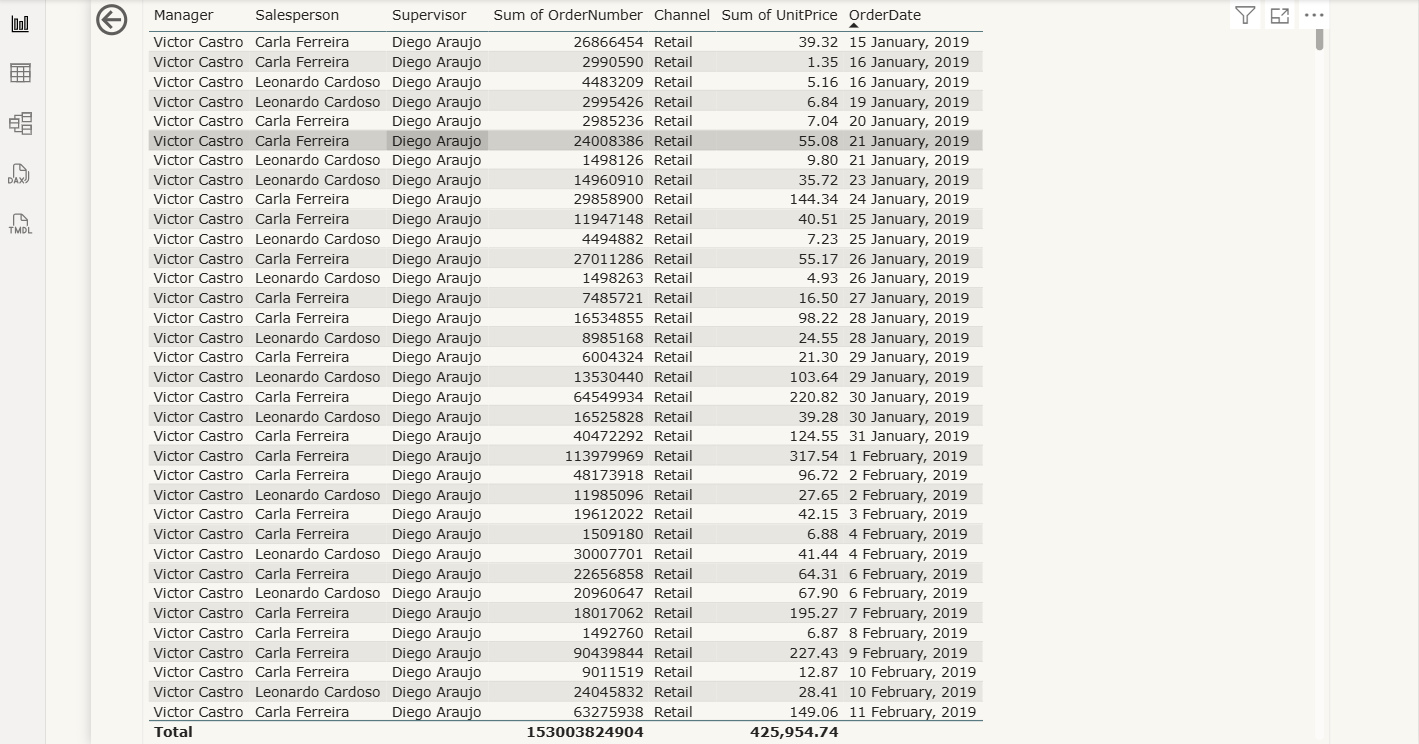

The page's visual inventory and layout, read from the dashboard file:
{"tool":"powerbi","page":{"name":"Drill through","canvas":[1280,720],"ordinal":1},"visuals":[{"type":"tableEx","fields":{"Values":["Sales.Manager","Sales.Salesperson","Sales.Supervisor","Sum(Sales.OrderNumber)","Sales.Channel","Sum(Sales.UnitPrice)","Sales.OrderDate"]},"box":[49.5,0,1146.1,720.2],"z":0},{"type":"actionButton","box":[0,0,100,40],"z":1000}]}

Visuals, with their boxes on the page's 1280x720 design canvas (x1, y1, x2, y2). These are canvas units, not pixel positions in the 1419x744 screenshot, which may show the page scaled, cropped or inside an application window:
tableEx - Sales.Manager x Sales.Salesperson: 50:0:1196:720
actionButton: 0:0:100:40
